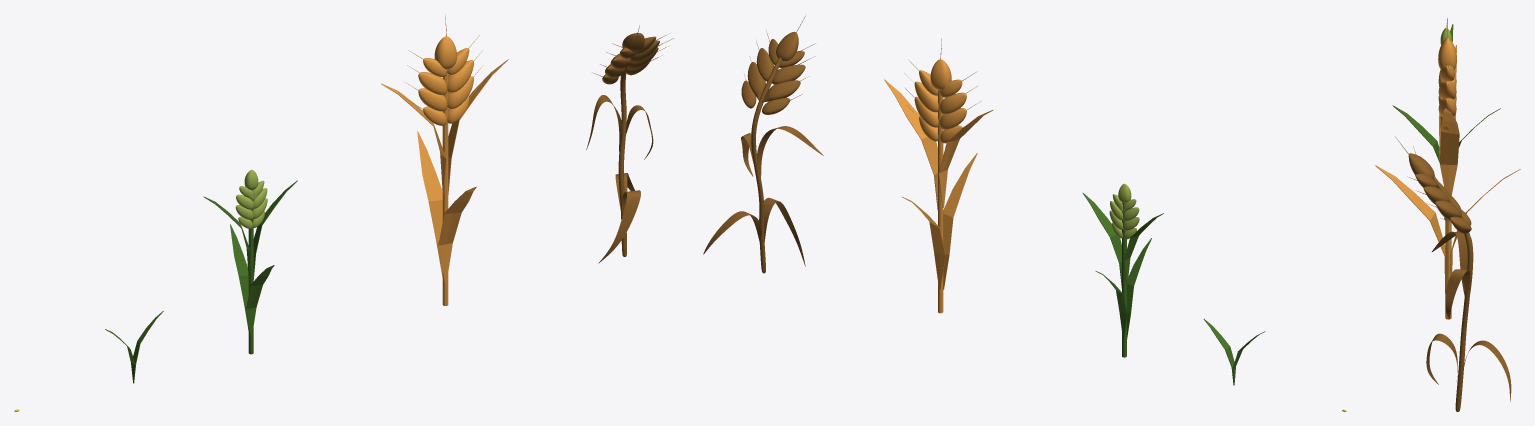
The model's file is Trigo.fbx.
3 views of the same model, side by side, from view 1: azimuth 30°, elevation 25°; view 2: azimuth 150°, elevation 25°; view 3: azimuth 270°, elevation 25° (orthographic). The views are drawn at different scales.
Parts seen in each view (by area): view 1: TrigoAmarelo, TrigoAmareloMorrendo, TrigoVerde; view 2: TrigoAmarelo, TrigoAmareloMorrendo, TrigoVerde; view 3: TrigoAmareloMorrendo, TrigoAmarelo, TrigoVerde.
Part boxes in pixels (left/top/right/bottom): TrigoAmarelo: left=381, top=14, right=508, bottom=305; TrigoAmareloMorrendo: left=586, top=25, right=673, bottom=263; TrigoVerde: left=203, top=169, right=297, bottom=354; TrigoAmarelo: left=884, top=38, right=993, bottom=313; TrigoAmareloMorrendo: left=703, top=14, right=823, bottom=273; TrigoVerde: left=1082, top=183, right=1163, bottom=357; TrigoAmareloMorrendo: left=1395, top=136, right=1511, bottom=411; TrigoAmarelo: left=1375, top=18, right=1520, bottom=319; TrigoVerde: left=1392, top=24, right=1500, bottom=219.
Bounding box in the file's own units: 280 × 120 × 51.78.
